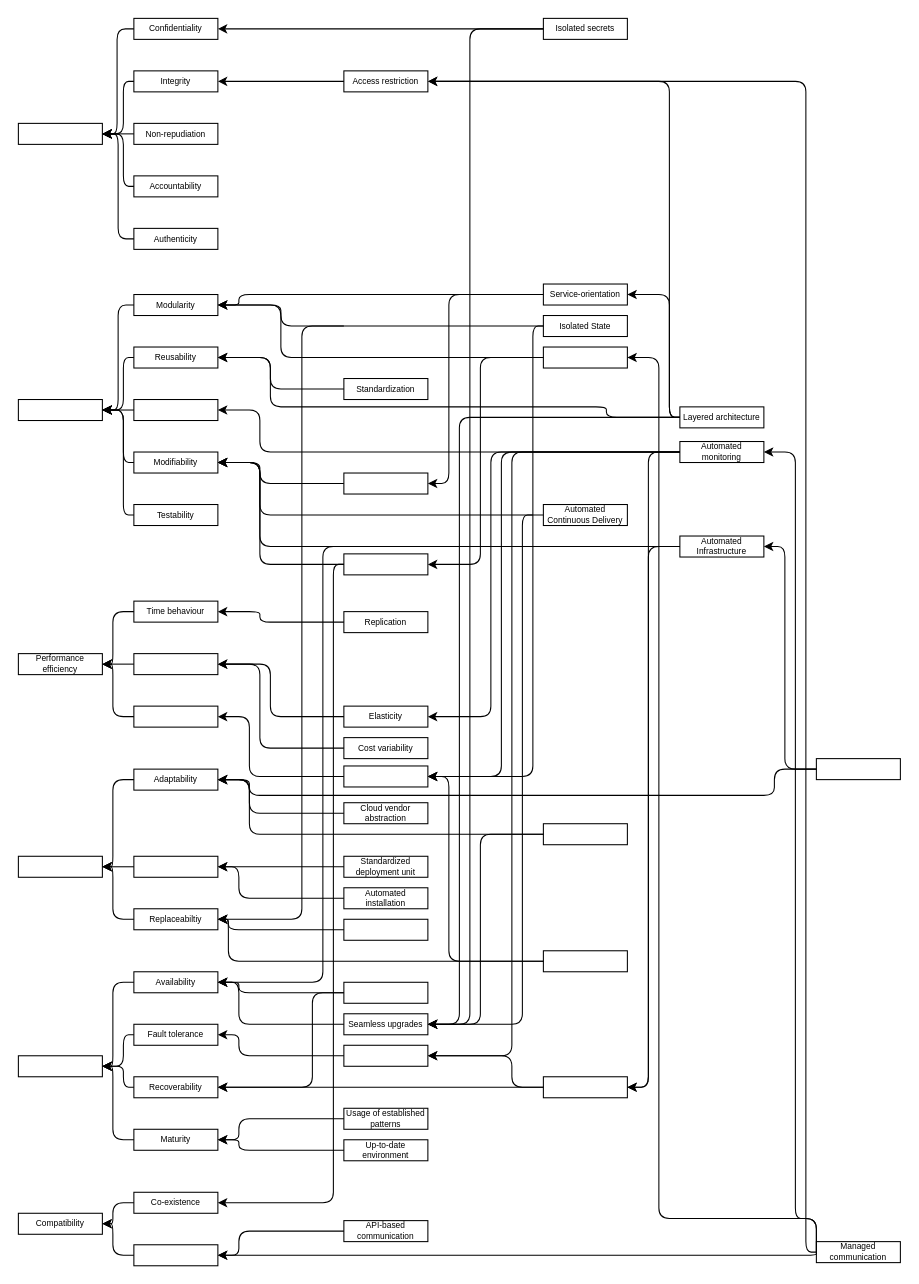
This 919x1284 diagram has some shape labels left out. Here are the shapes that lost their labels. From the top down, the centre of each, then its label:
At pixel 59 133: "Security".
At pixel 584 357: "Loose coupling".
At pixel 59 409: "Maintainability".
At pixel 175 409: "Analysability".
At pixel 385 483: "Stuctural scalability".
At pixel 385 564: "Service independence".
At pixel 175 664: "Resource utilisation".
At pixel 175 716: "Capability".
At pixel 385 776: "Automated horizontal scalability".
At pixel 857 769: "Infrastructure abstraction".
At pixel 584 834: "Isolated configuration".
At pixel 59 866: "Portability".
At pixel 175 866: "Installability".
At pixel 385 929: "Immutable artifacts".
At pixel 584 961: "Start-up time".
At pixel 385 992: "Distribution".
At pixel 59 1066: "Reliability".
At pixel 385 1055: "Autonomous fault handling".
At pixel 584 1087: "Automated restarts".
At pixel 175 1255: "Interoperability".
